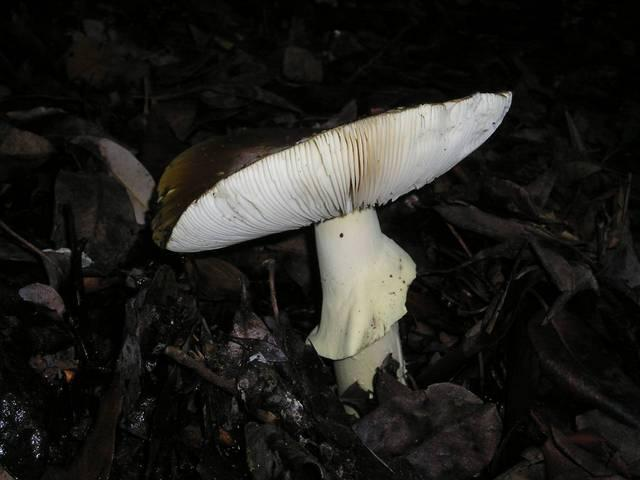edible_mushroom: (147, 88, 513, 413)
